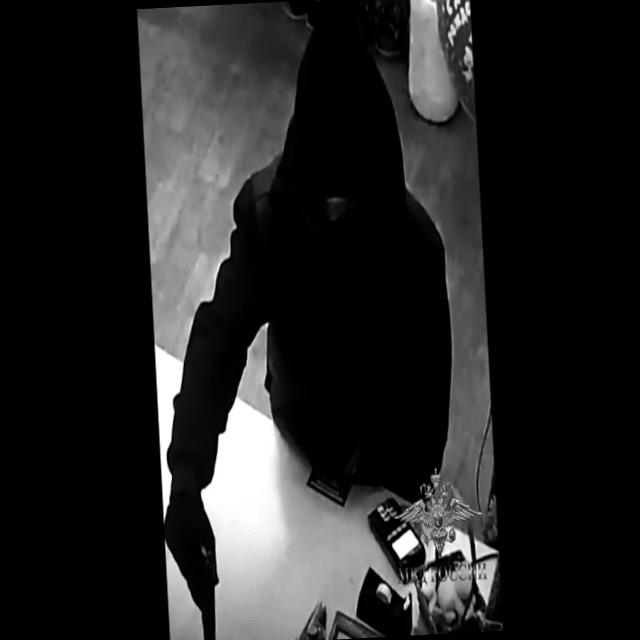gun: (165, 515, 223, 640)
person with a gun: (142, 65, 466, 640)
